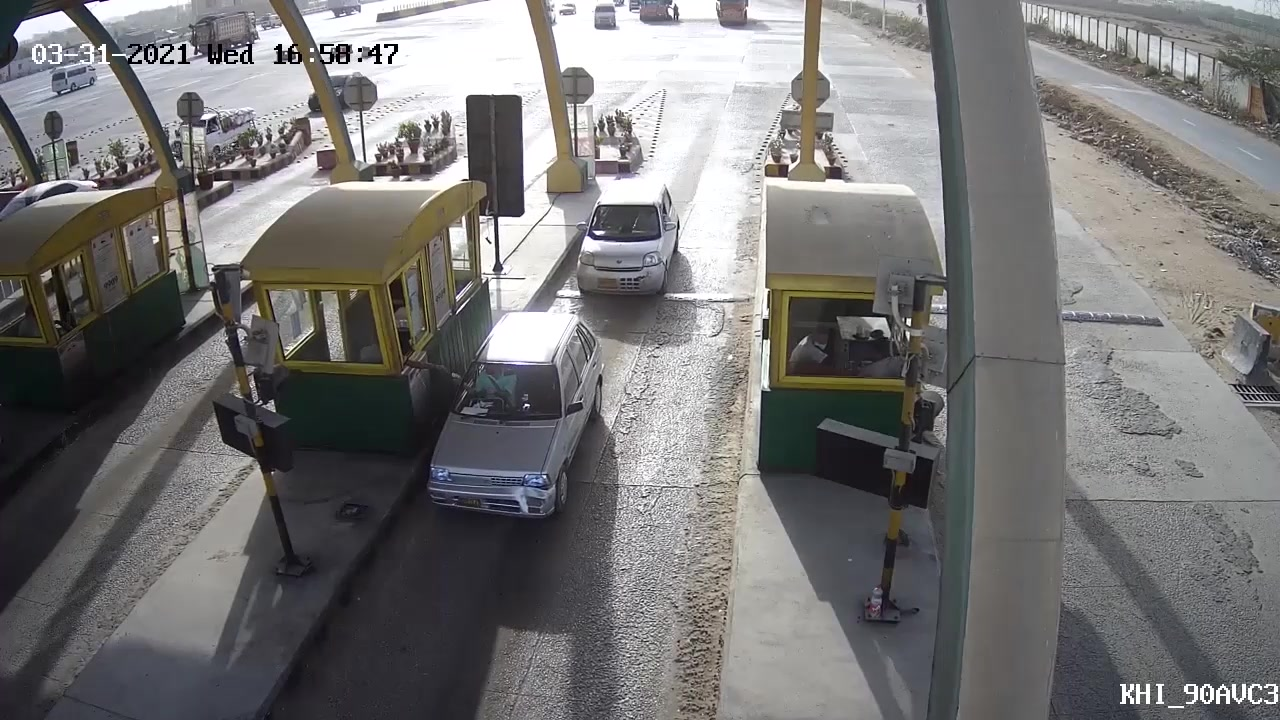F1: (407, 312, 607, 534), (578, 179, 682, 299)
